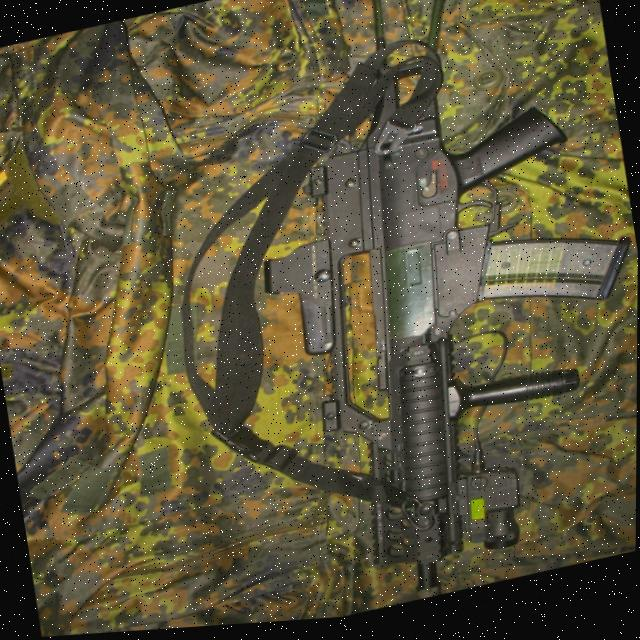firearm: (217, 0, 640, 628)
